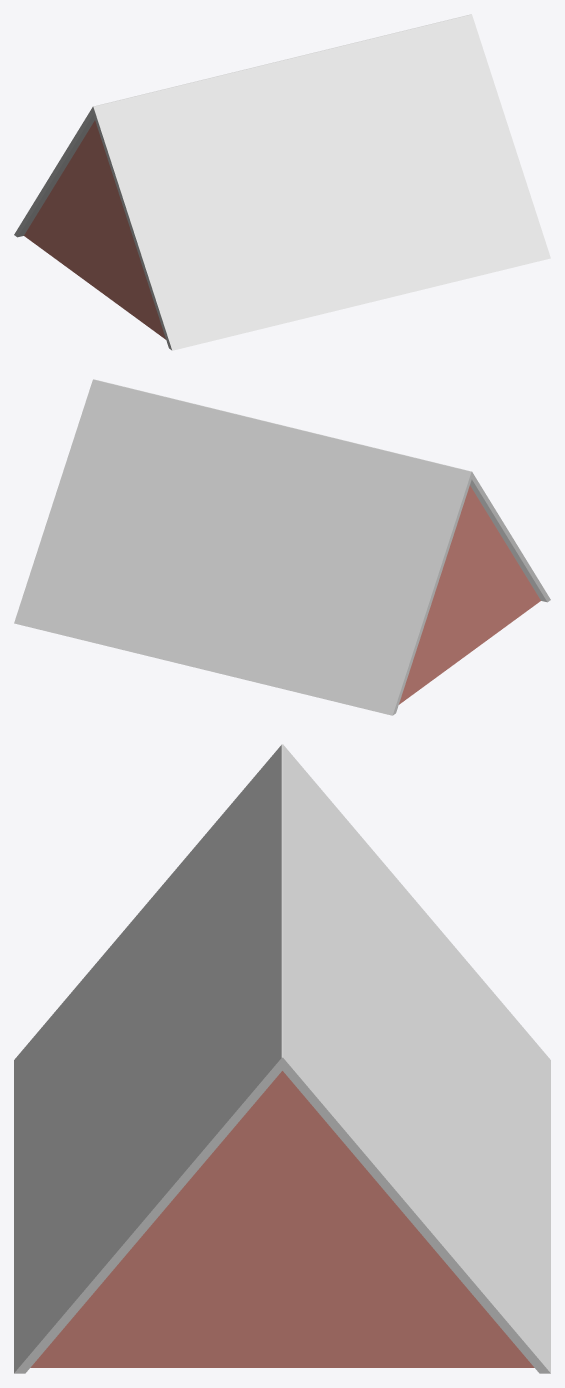
Rendered from SP_House07_Roof01.fbx.
3 views of the same model, one above another, from view 1: azimuth 30°, elevation 25°; view 2: azimuth 150°, elevation 25°; view 3: azimuth 270°, elevation 25° (orthographic). The views are drawn at different scales.
Parts seen in each view (by area): view 1: SP_House07_Roof01; view 2: SP_House07_Roof01; view 3: SP_House07_Roof01.
Part boxes in pixels (x1=…): SP_House07_Roof01: x1=14, y1=14, x2=550, y2=350; SP_House07_Roof01: x1=14, y1=379, x2=550, y2=715; SP_House07_Roof01: x1=14, y1=744, x2=550, y2=1373.
Bounding box in the file's own units: 6.08 × 2.85 × 4.4.
